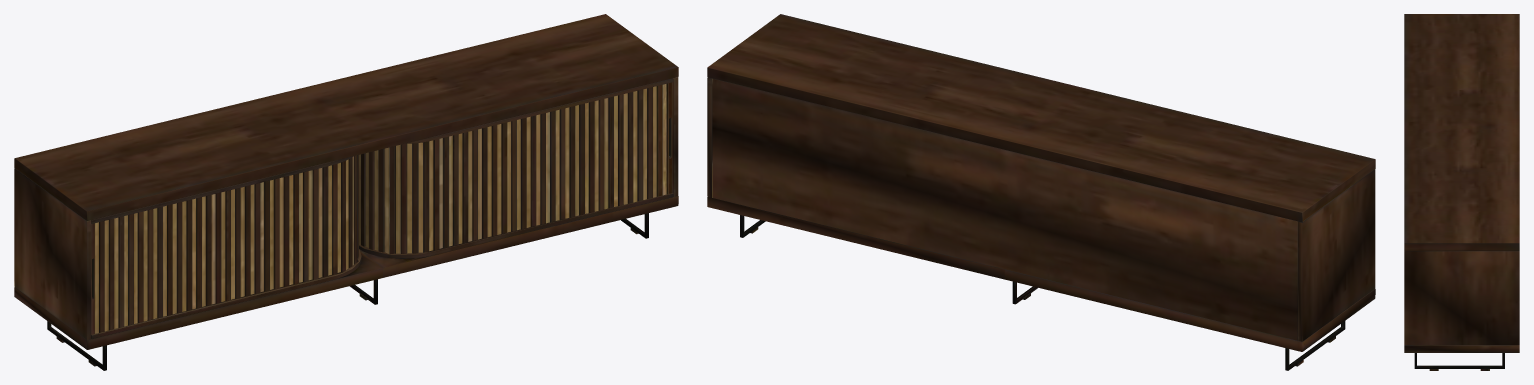
The model's file is modern_wooden_cabinet.674837eb.glb.
3 views of the same model, side by side, from view 1: azimuth 30°, elevation 25°; view 2: azimuth 150°, elevation 25°; view 3: azimuth 270°, elevation 25° (orthographic). The views are drawn at different scales.
Parts seen in each view (by area): view 1: modern_wooden_cabinet_body, modern_wooden_cabinet_door_r, modern_wooden_cabinet_door_l; view 2: modern_wooden_cabinet_body; view 3: modern_wooden_cabinet_body.
Part boxes in pixels (x1=…): modern_wooden_cabinet_body: x1=14, y1=14, x2=678, y2=370; modern_wooden_cabinet_door_r: x1=359, y1=82, x2=672, y2=253; modern_wooden_cabinet_door_l: x1=91, y1=155, x2=358, y2=334; modern_wooden_cabinet_body: x1=707, y1=14, x2=1375, y2=370; modern_wooden_cabinet_body: x1=1404, y1=14, x2=1519, y2=370.
Bounding box in the file's own units: 0.95 × 0.2648 × 0.2025.
1 material, 1 textured.
